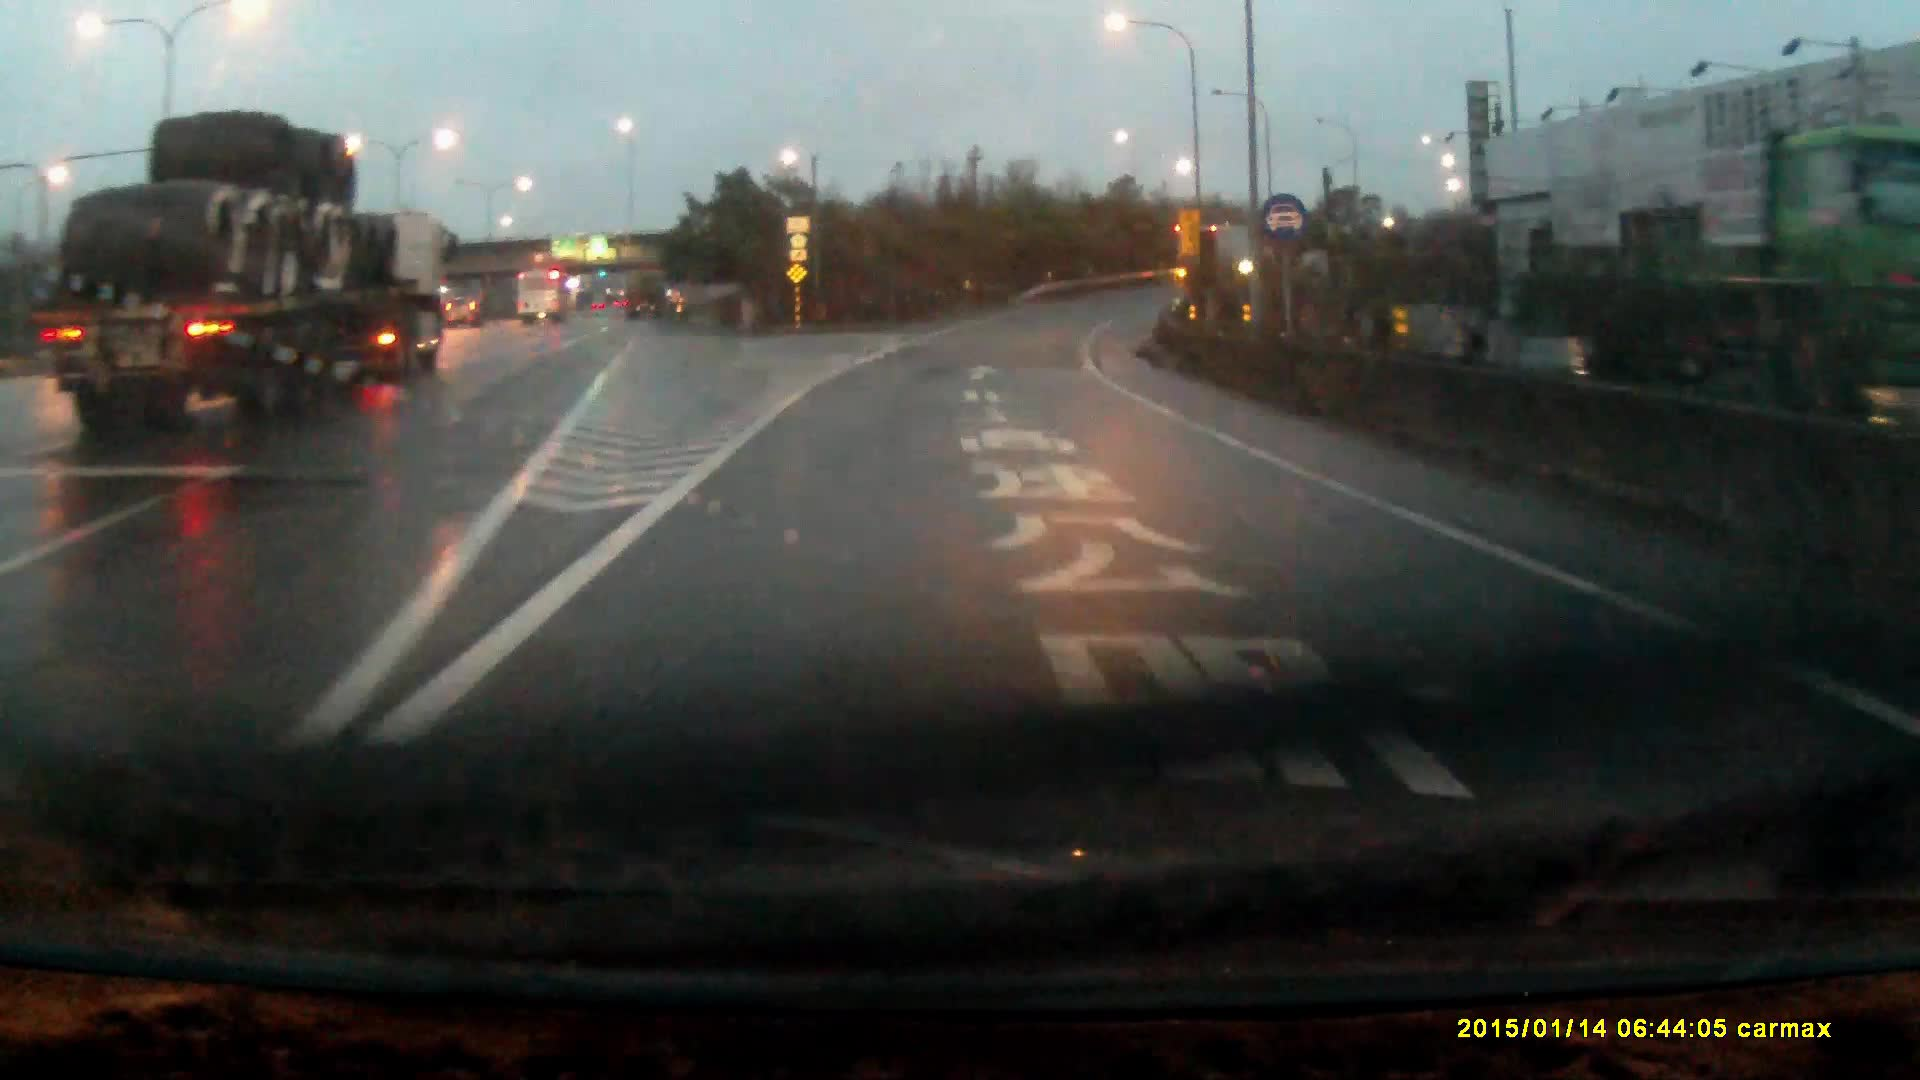vehicle: (46, 111, 455, 423), (516, 272, 574, 328), (446, 298, 483, 328)
